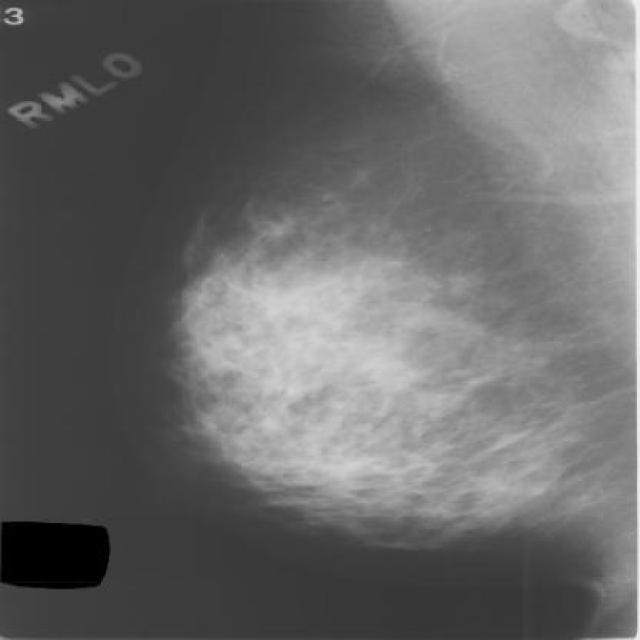tumor: (196, 228, 528, 522)
